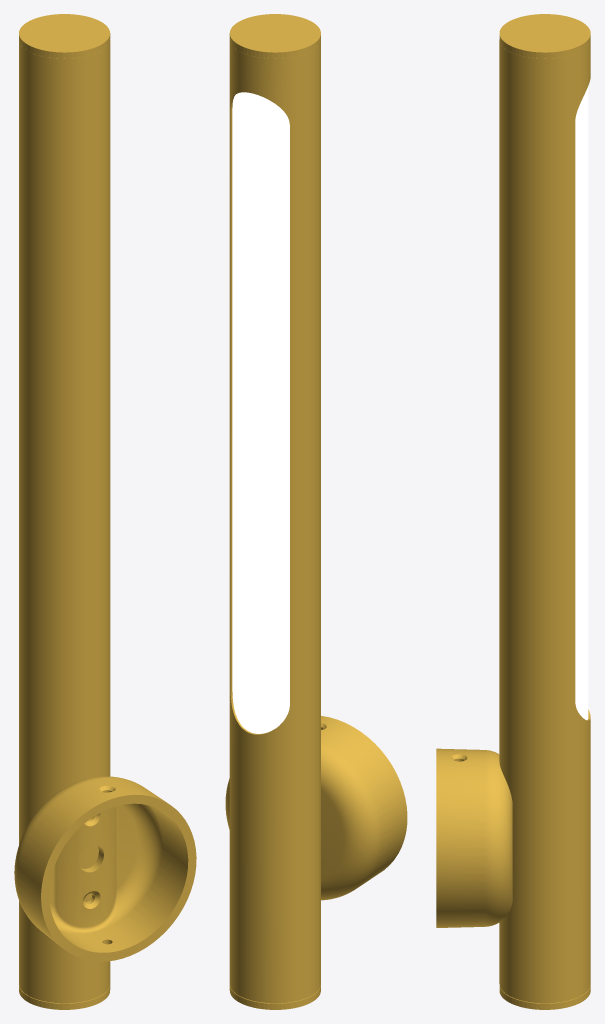
The model's file is arevik-stela.glb.
3 views of the same model, side by side, from view 1: azimuth 30°, elevation 25°; view 2: azimuth 150°, elevation 25°; view 3: azimuth 270°, elevation 25° (orthographic).
Visible parts, largest first — view 1: Assem arevik wall brass main - Copy - Main Pipe - 12pd200100, Assem arevik wall brass main - Copy - 12pd2001023-02-1, Assem arevik wall brass main - Copy - 12DP2001011-07-01-1, Assem arevik wall brass main - Copy - 12DP2001011-07-01-2; view 2: Assem arevik wall brass main - Copy - Main Pipe - 12pd200100, Assem arevik wall brass main - Copy - Plaxu pipe - 12pd20010, Assem arevik wall brass main - Copy - 12pd2001023-02-1, Assem arevik wall brass main - Copy - 12DP2001011-07-01-1, Assem arevik wall brass main - Copy - 12DP2001011-07-01-2; view 3: Assem arevik wall brass main - Copy - Main Pipe - 12pd200100, Assem arevik wall brass main - Copy - 12pd2001023-02-1, Assem arevik wall brass main - Copy - Plaxu pipe - 12pd20010, Assem arevik wall brass main - Copy - 12DP2001011-07-01-1, Assem arevik wall brass main - Copy - 12DP2001011-07-01-2.
Part boxes in pixels (x1,y1,x2,y2): Assem arevik wall brass main - Copy - Main Pipe - 12pd200100: [19, 40, 110, 1003]; Assem arevik wall brass main - Copy - 12pd2001023-02-1: [14, 776, 196, 961]; Assem arevik wall brass main - Copy - 12DP2001011-07-01-1: [19, 14, 110, 58]; Assem arevik wall brass main - Copy - 12DP2001011-07-01-2: [19, 984, 110, 1009]; Assem arevik wall brass main - Copy - Main Pipe - 12pd200100: [229, 40, 320, 1003]; Assem arevik wall brass main - Copy - Plaxu pipe - 12pd20010: [232, 92, 289, 733]; Assem arevik wall brass main - Copy - 12pd2001023-02-1: [225, 716, 407, 900]; Assem arevik wall brass main - Copy - 12DP2001011-07-01-1: [229, 14, 320, 58]; Assem arevik wall brass main - Copy - 12DP2001011-07-01-2: [229, 984, 320, 1009]; Assem arevik wall brass main - Copy - Main Pipe - 12pd200100: [499, 40, 590, 1003]; Assem arevik wall brass main - Copy - 12pd2001023-02-1: [436, 748, 512, 927]; Assem arevik wall brass main - Copy - Plaxu pipe - 12pd20010: [575, 86, 588, 720]; Assem arevik wall brass main - Copy - 12DP2001011-07-01-1: [499, 14, 590, 58]; Assem arevik wall brass main - Copy - 12DP2001011-07-01-2: [499, 985, 590, 1009].
Size of the model in its own units: 0.5672 by 3.34 by 0.4882.
